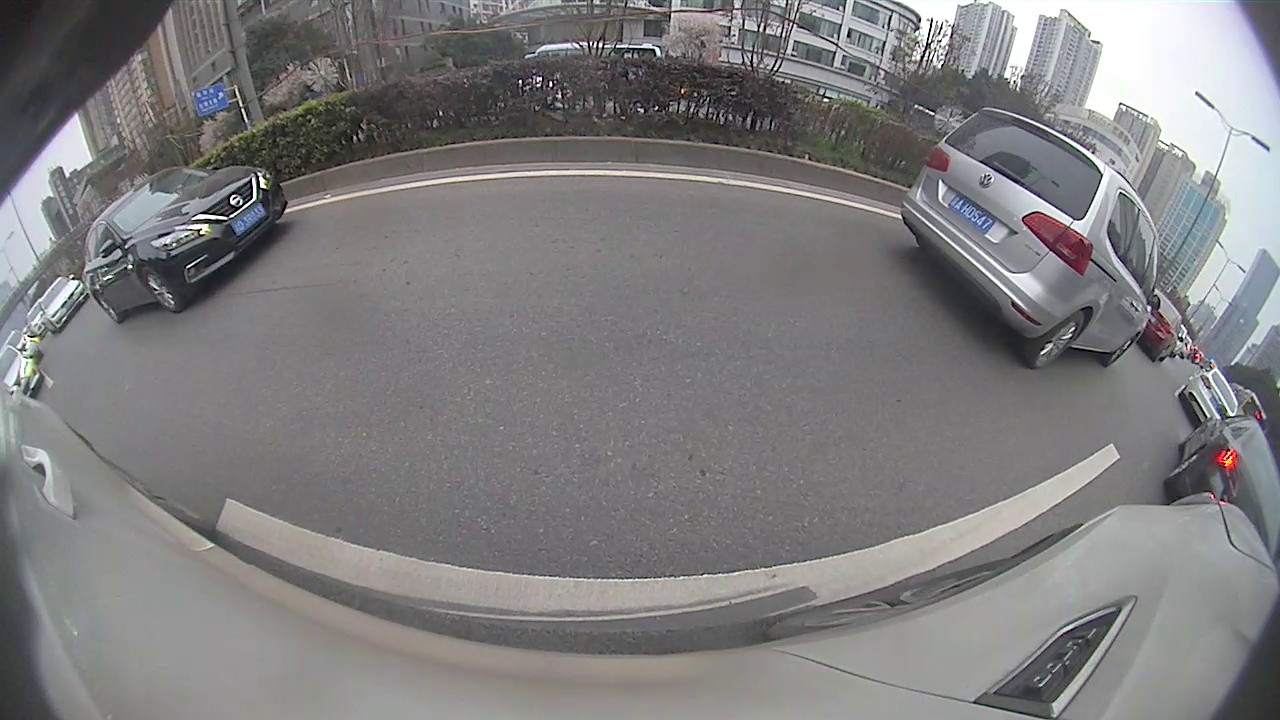car: (897, 103, 1161, 368), (81, 165, 288, 324), (1161, 403, 1278, 559), (1178, 360, 1240, 420), (34, 271, 88, 333), (1, 344, 43, 402)
front: (141, 267, 184, 314), (1102, 334, 1140, 367)
rear: (1024, 312, 1085, 369)
